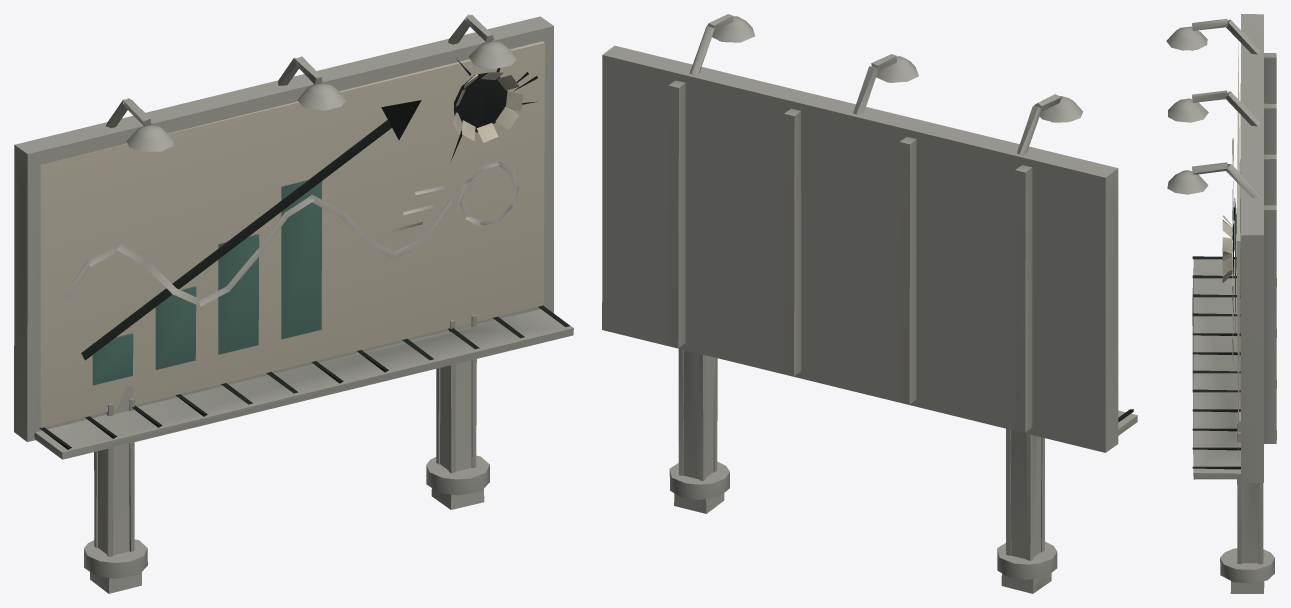
Rendered from foreman_billboard_b_lod2.glb.
The picture shows the model from 3 angles, left to right: view 1: azimuth 30°, elevation 25°; view 2: azimuth 150°, elevation 25°; view 3: azimuth 270°, elevation 25°; orthographic projection. The views are drawn at different scales.
Visible parts, largest first — view 1: Surface.001; view 2: Surface.001; view 3: Surface.001.
Boxes of the visible parts, x1,y1,x2,y2 form: Surface.001: [14, 14, 573, 593]; Surface.001: [602, 14, 1137, 593]; Surface.001: [1166, 14, 1276, 593].
Bounding box in the file's own units: 10.48 × 9.39 × 2.21.
